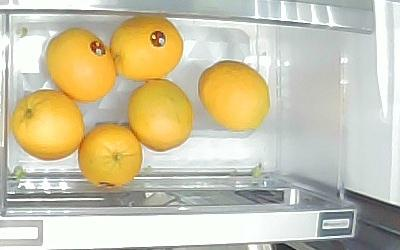orange: (46, 27, 116, 101), (198, 59, 270, 130), (11, 89, 83, 160), (110, 14, 183, 81), (128, 79, 193, 152), (79, 124, 142, 188)
